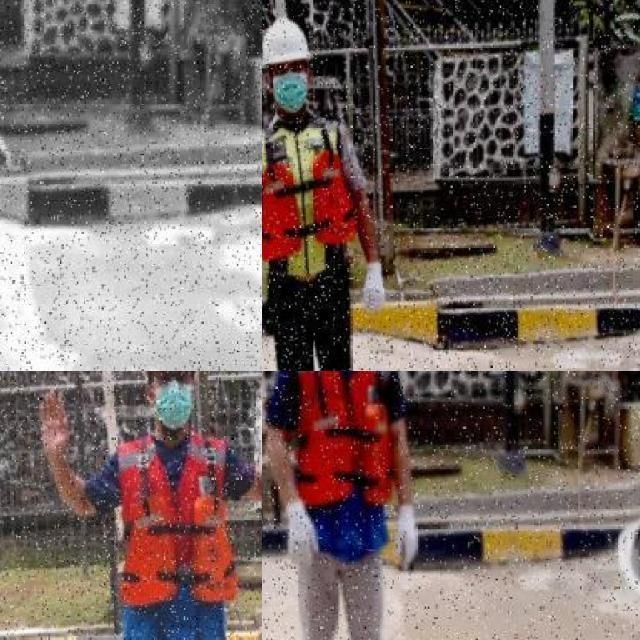apron: (282, 494, 318, 567), (392, 502, 421, 572), (361, 258, 392, 318), (0, 118, 14, 182)
